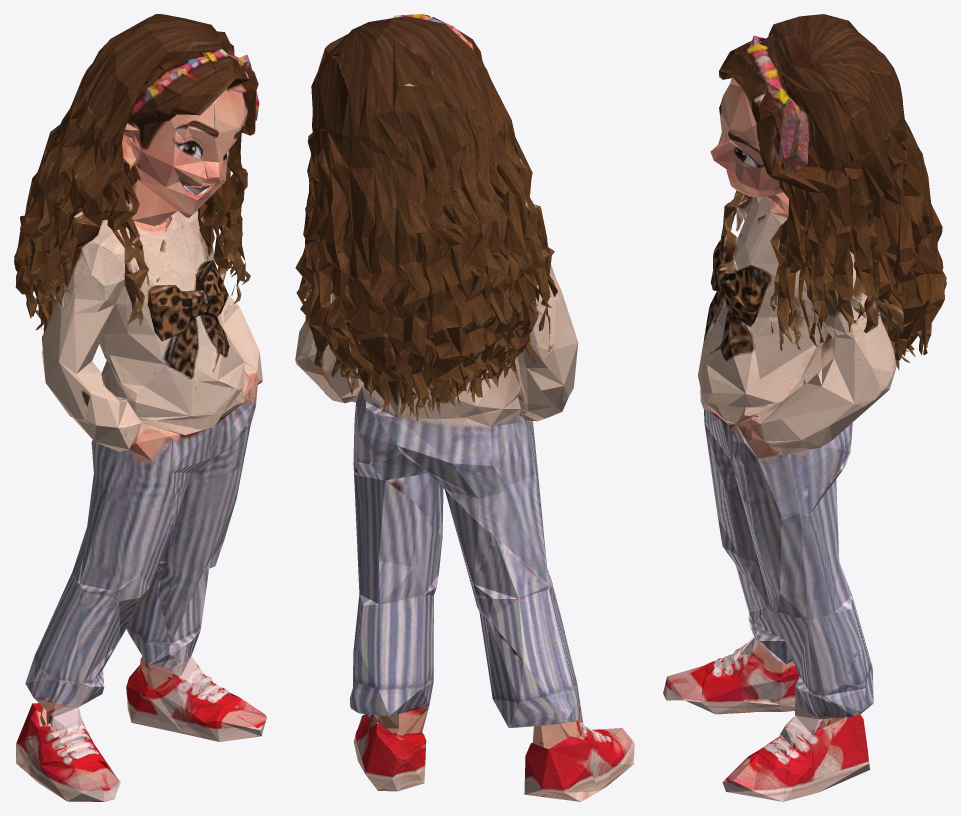
The model's file is menina.glb.
3 views of the same model, side by side, from view 1: azimuth 30°, elevation 25°; view 2: azimuth 150°, elevation 25°; view 3: azimuth 270°, elevation 25° (orthographic). The views are drawn at different scales.
Size of the model in its own units: 0.6843 by 1.9 by 0.6527.
Materials: 1 (1 with a texture image).
